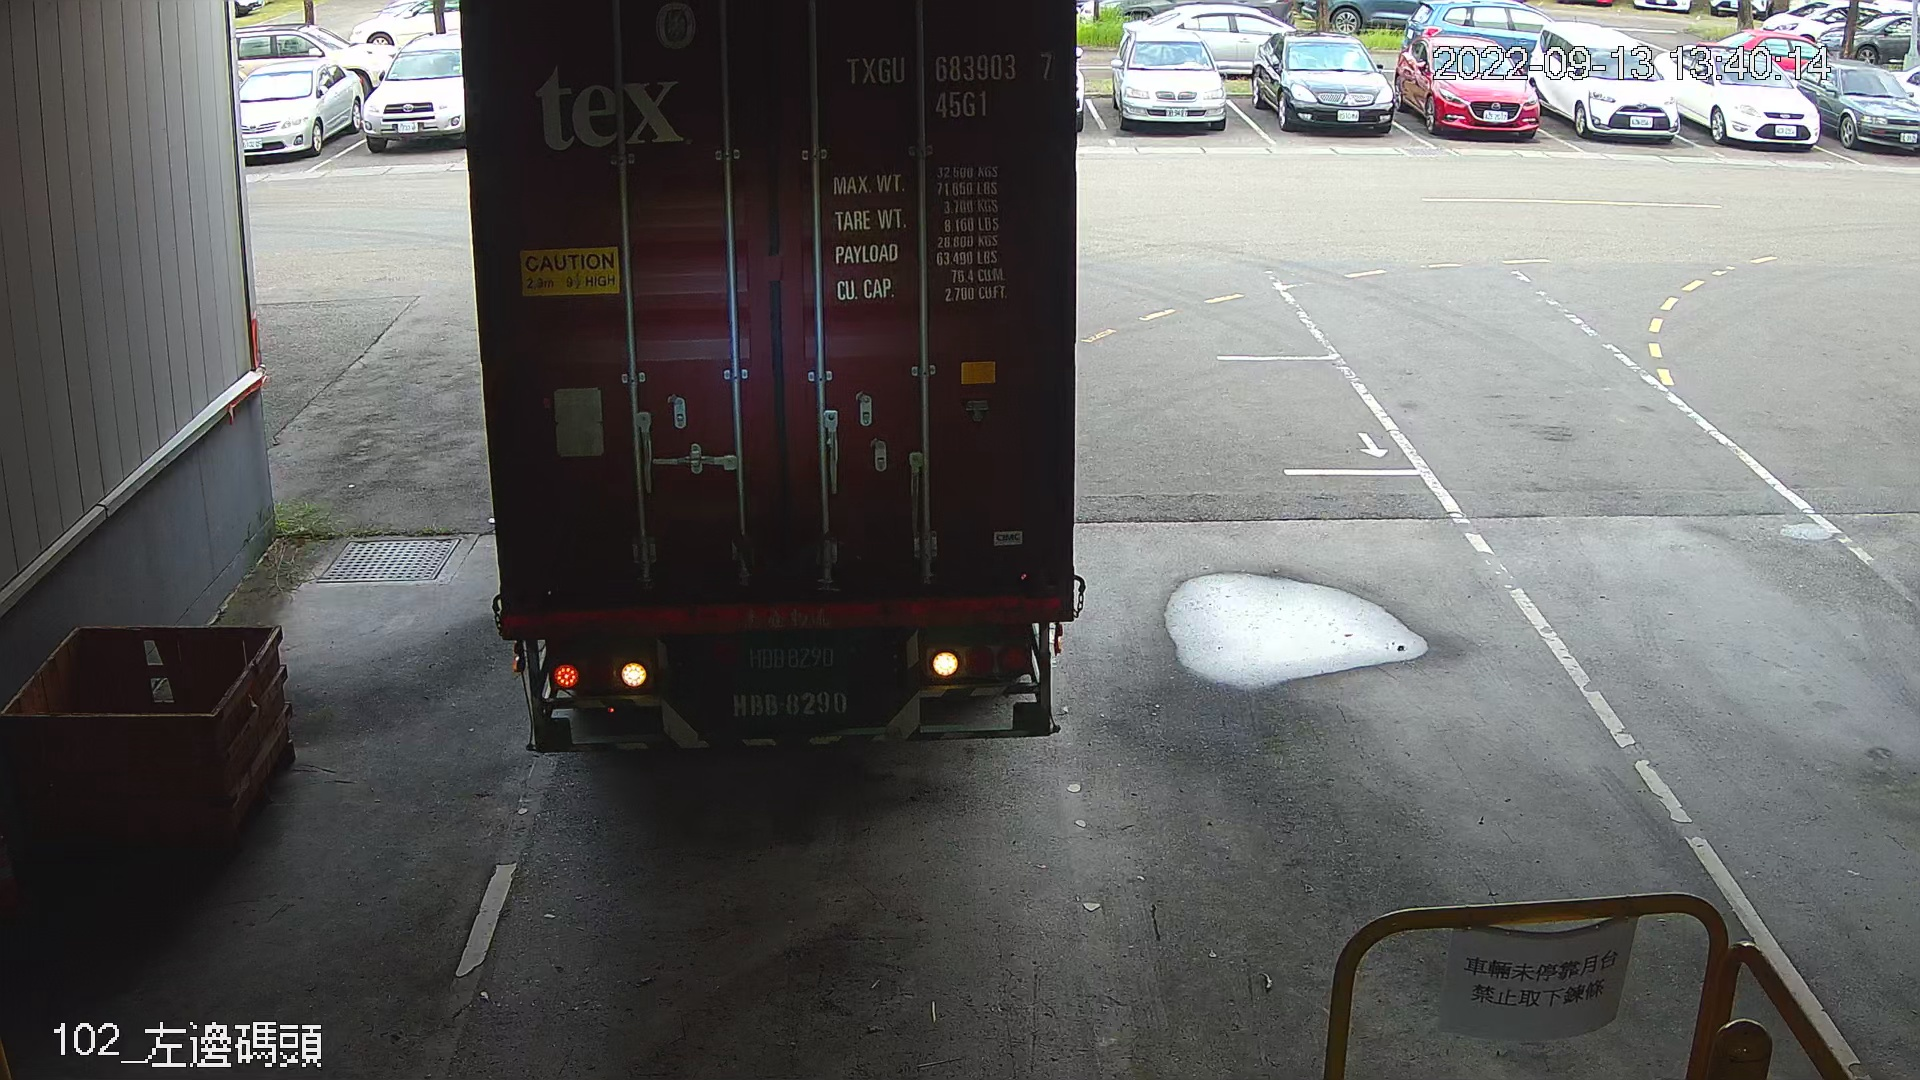container: (835, 41, 1062, 124)
